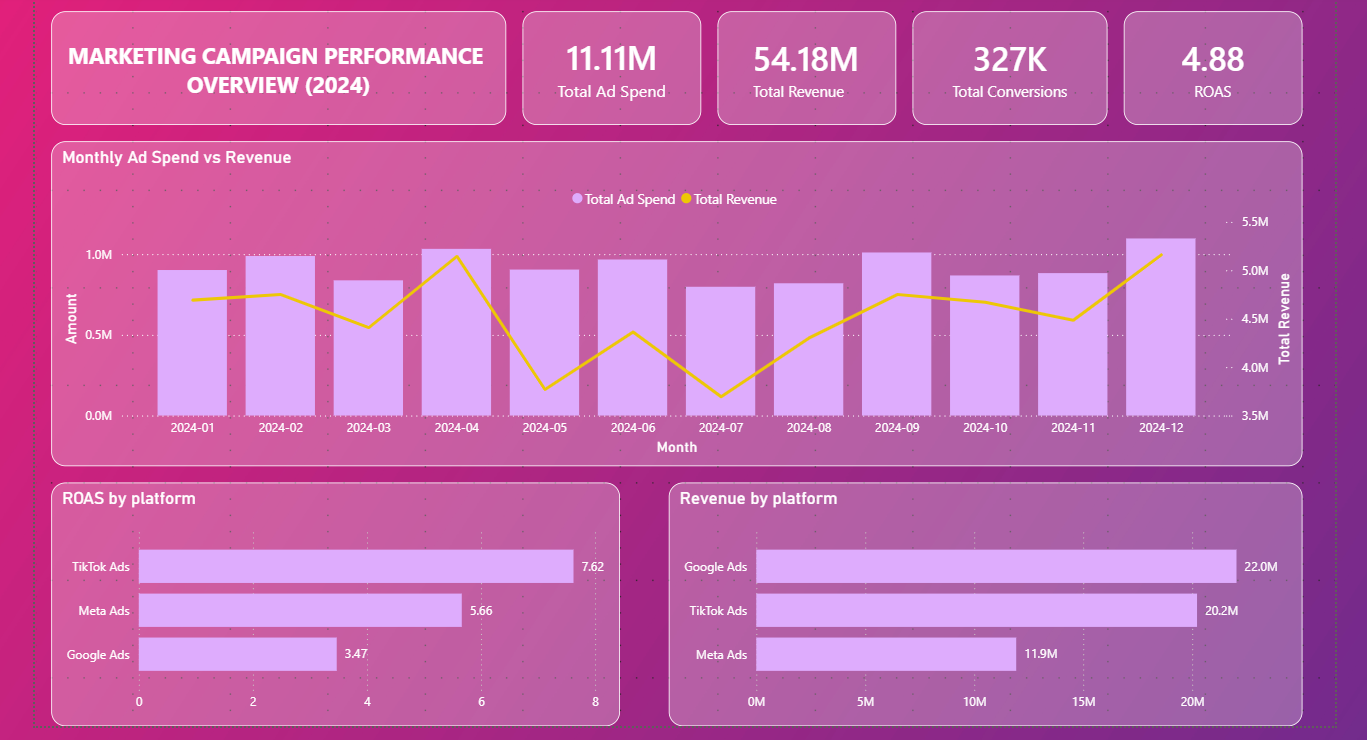

This screenshot's page, from the dashboard's own definition file:
{"tool":"powerbi","page":{"name":"Executive Overview","canvas":[1280,720],"ordinal":0},"visuals":[{"type":"textbox","box":[16,16,448,112],"z":0},{"type":"cardVisual","fields":{"Data":["global_ads_performance_prepared.Total Ad Spend"]},"box":[480,16,176,112],"z":1000},{"type":"cardVisual","fields":{"Data":["global_ads_performance_prepared.Total Revenue"]},"box":[672,16,176,112],"z":2000},{"type":"cardVisual","fields":{"Data":["global_ads_performance_prepared.Total Conversions"]},"box":[864,16,192,112],"z":3000},{"type":"cardVisual","fields":{"Data":["global_ads_performance_prepared.ROAS Measure"]},"box":[1072,16,176,112],"z":4000},{"type":"lineClusteredColumnComboChart","title":"Monthly Ad Spend vs Revenue","fields":{"Y":["global_ads_performance_prepared.Total Ad Spend"],"Y2":["global_ads_performance_prepared.Total Revenue"],"Category":["DateTable.Year-Month"]},"box":[16,144,1232,320],"z":5000},{"type":"clusteredBarChart","title":"ROAS  by platform","fields":{"Category":["global_ads_performance_prepared.platform"],"Y":["global_ads_performance_prepared.ROAS Measure"]},"box":[16,480,560,240],"z":6000},{"type":"clusteredBarChart","title":"Revenue by platform","fields":{"Category":["global_ads_performance_prepared.platform"],"Y":["global_ads_performance_prepared.Total Revenue"]},"box":[624,480,624,240],"z":7000}]}

Visuals, with their boxes in screenshot pixels (x1, y1, x2, y2):
textbox: 48/9/503/123
cardVisual - global_ads_performance_prepared.Total Ad Spend: 519/9/697/123
cardVisual - global_ads_performance_prepared.Total Revenue: 714/9/892/123
cardVisual - global_ads_performance_prepared.Total Conversions: 908/9/1103/123
cardVisual - global_ads_performance_prepared.ROAS Measure: 1119/9/1298/123
"Monthly Ad Spend vs Revenue" lineClusteredColumnComboChart: 48/139/1298/463
"ROAS  by platform" clusteredBarChart: 48/480/616/723
"Revenue by platform" clusteredBarChart: 665/480/1298/723
